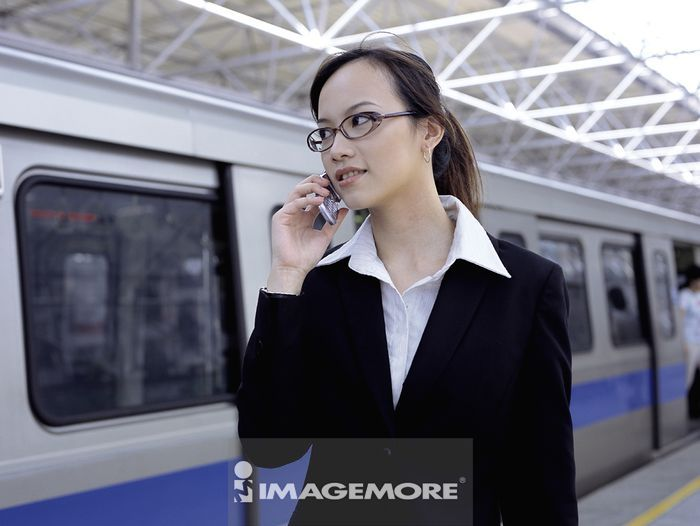talk: (267, 92, 394, 277)
